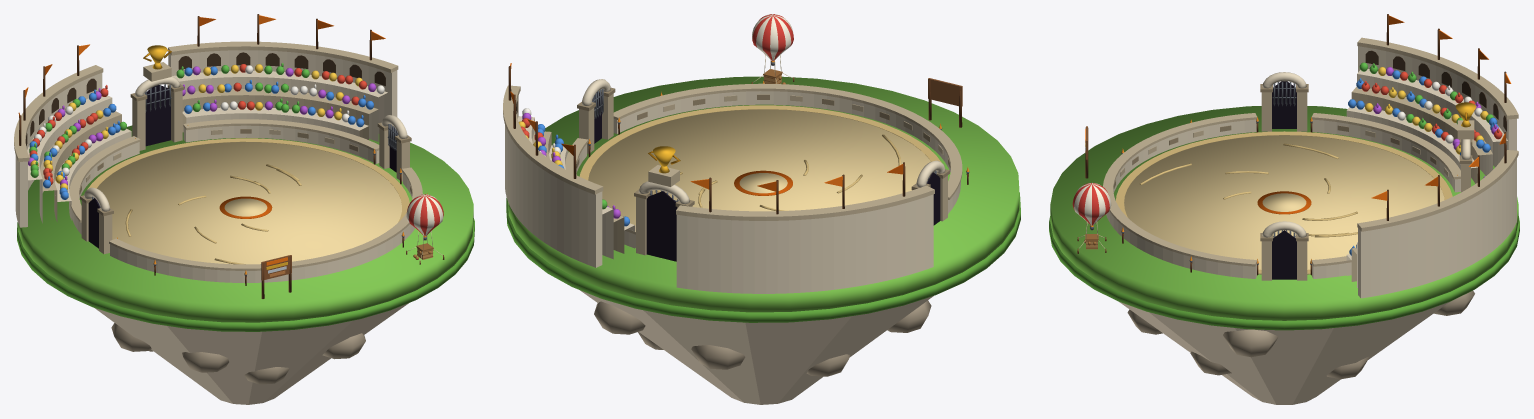
File: arene-jeu.glb
The picture shows the model from 3 angles, left to right: view 1: azimuth 30°, elevation 25°; view 2: azimuth 150°, elevation 25°; view 3: azimuth 270°, elevation 25°; orthographic projection. The views are drawn at different scales.
Visible parts, largest first — view 1: sable, herbe, roche, herbe_bord, muret, haut_mur, gradin.004, gradin.002, muret_corniche, muret.001, haut_corniche, gradin (+21 smaller); view 2: herbe, sable, haut_mur.001, roche, haut_mur, herbe_bord, muret, muret_corniche, haut_corniche.001, sable_bord, herse_trou, haut_corniche (+15 smaller); view 3: sable, herbe, roche, haut_mur, herbe_bord, muret, muret_corniche, haut_mur.001, sable_bord, gradin.005, haut_corniche.001, haut_corniche (+19 smaller).
Part boxes in pixels (left/top/right/bottom): sable: left=97, top=142, right=401, bottom=264; herbe: left=18, top=125, right=473, bottom=322; roche: left=95, top=303, right=408, bottom=404; herbe_bord: left=17, top=218, right=474, bottom=331; muret: left=110, top=173, right=414, bottom=282; haut_mur: left=168, top=50, right=397, bottom=133; gradin.004: left=172, top=70, right=387, bottom=141; gradin.002: left=182, top=89, right=378, bottom=139; muret_corniche: left=109, top=167, right=422, bottom=270; muret.001: left=183, top=125, right=379, bottom=163; haut_corniche: left=168, top=41, right=398, bottom=72; gradin: left=182, top=107, right=368, bottom=136; herbe: left=508, top=76, right=1019, bottom=312; sable: left=588, top=109, right=930, bottom=225; haut_mur.001: left=676, top=194, right=933, bottom=293; roche: left=580, top=290, right=933, bottom=404; haut_mur: left=505, top=96, right=602, bottom=267; herbe_bord: left=506, top=192, right=1020, bottom=322; muret: left=613, top=91, right=960, bottom=213; muret_corniche: left=613, top=83, right=962, bottom=199; haut_corniche.001: left=676, top=185, right=934, bottom=220; sable_bord: left=579, top=105, right=941, bottom=180; herse_trou: left=646, top=191, right=677, bottom=261; haut_corniche: left=503, top=85, right=603, bottom=194; sable: left=1124, top=135, right=1444, bottom=274; herbe: left=1050, top=106, right=1518, bottom=320; roche: left=1119, top=302, right=1449, bottom=404; haut_mur: left=1358, top=159, right=1516, bottom=298; herbe_bord: left=1049, top=216, right=1519, bottom=330; muret: left=1106, top=119, right=1256, bottom=278; muret_corniche: left=1103, top=113, right=1257, bottom=266; haut_mur.001: left=1358, top=46, right=1516, bottom=167; sable_bord: left=1116, top=131, right=1452, bottom=274; gradin.005: left=1357, top=69, right=1507, bottom=175; haut_corniche.001: left=1357, top=37, right=1518, bottom=119; haut_corniche: left=1357, top=150, right=1518, bottom=231.
Size of the model in its own units: 27.89 by 18.83 by 27.89.
